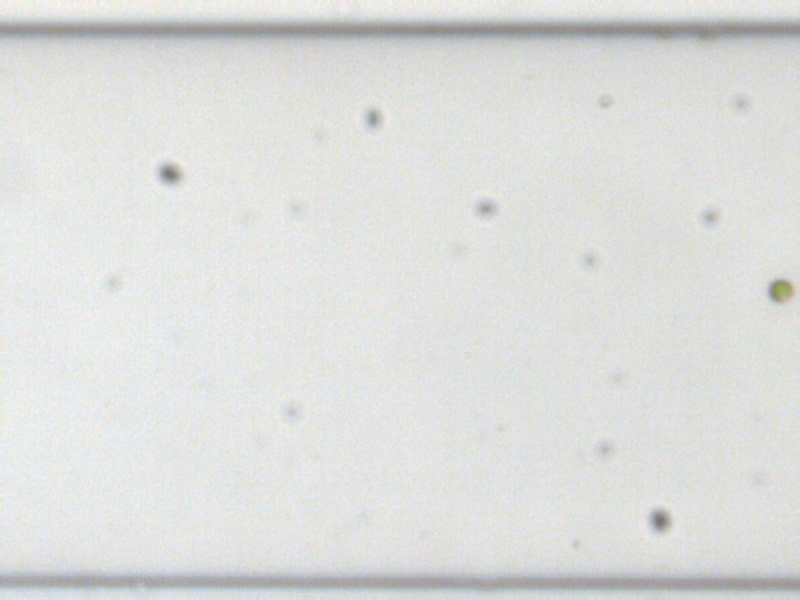Chlorella: (766, 278, 793, 303)
